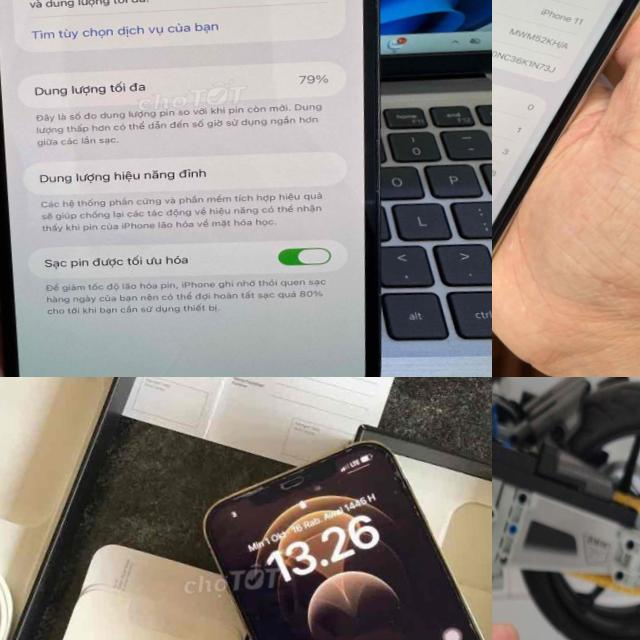physical_damage: (377, 443, 426, 521), (221, 470, 292, 510)
